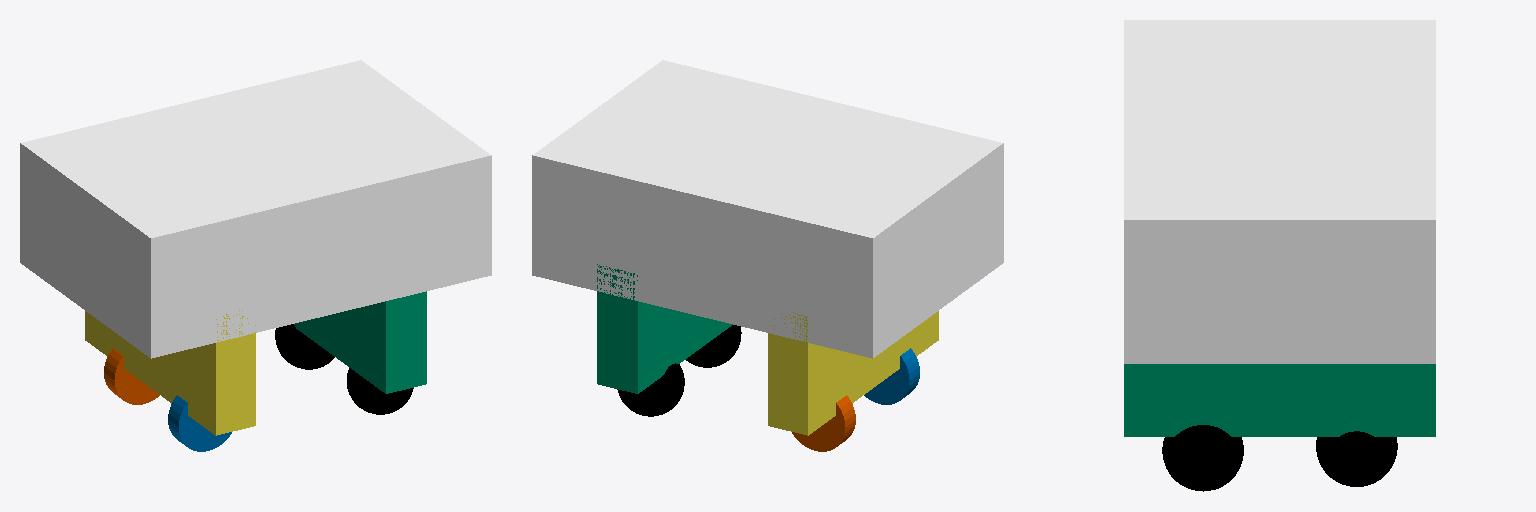
robot.urdf — differential_wheeled_robot:
<?xml version="1.0" ?>
<!-- =================================================================================== -->
<!-- |    This document was autogenerated by xacro from diff_wheeled_robot.xacro       | -->
<!-- |    EDITING THIS FILE BY HAND IS NOT RECOMMENDED                                 | -->
<!-- =================================================================================== -->
<robot name="differential_wheeled_robot" xmlns:xacro="http://www.ros.org/wiki/xacro">
  <!-- Wheels -->
  <!-- in kg-->
  <!-- Defining the colors used in this robot -->
  <material name="Black">
    <color rgba="0.0 0.0 0.0 1.0"/>
  </material>
  <material name="Red">
    <color rgba="0.8 0.0 0.0 1.0"/>
  </material>
  <material name="White">
    <color rgba="1.0 1.0 1.0 1.0"/>
  </material>
  <material name="Blue">
    <color rgba="0.0 0.0 0.8 1.0"/>
  </material>
  <!-- PROPERTY LIST -->
  <!--All units in m-kg-s-radians unit system -->
  <!-- Main body radius and height -->
  <!-- Main Body Cylinder base   -->
  <!-- in kg-->
  <!-- caster wheel radius and height -->
  <!-- caster wheel mass -->
  <!-- in kg-->
  <!-- caster wheel radius and height -->
  <!-- caster wheel mass -->
  <!-- in kg-->
  <!-- Wheels -->
   --&gt; 
  <!-- in kg-->
  <!-- Hokuyo Laser scanner -->
  <!-- Macro for calculating inertia of cylinder -->
  <!-- BASE-FOOTPRINT -->
  <!-- base_footprint is a fictitious link(frame) that is on the ground right below base_link origin -->
  <link name="base_footprint">
    <inertial>
      <mass value="0.0001"/>
      <origin xyz="0 0 0"/>
      <inertia ixx="0.0001" ixy="0.0" ixz="0.0" iyy="0.0001" iyz="0.0" izz="0.0001"/>
    </inertial>
    <visual>
      <origin rpy="0 0 0" xyz="0 0 0"/>
      <geometry>
        <box size="0.001 0.001 0.001"/>
      </geometry>
    </visual>
  </link>
  <gazebo reference="base_footprint">
    <turnGravityOff>false</turnGravityOff>
  </gazebo>
  <joint name="base_footprint_joint" type="fixed">
    <origin rpy="0 0 0" xyz="0 0 0.04"/>
    <parent link="base_footprint"/>
    <child link="base_link"/>
  </joint>
  <!-- BASE-LINK -->
  <!--Actual body/chassis of the robot-->
  <link name="base_link">
    <inertial>
      <mass value="50"/>
      <origin xyz="0 0 0"/>
      <!--The 3x3 rotational inertia matrix. -->
      <inertia ixx="0.0282916666667" ixy="0" ixz="0" iyy="0.0282916666667" iyz="0" izz="0.05625"/>
    </inertial>
    <visual>
      <origin rpy="0 0 0" xyz="0 0 0"/>
      <geometry>
         <box size=".92 .61 .31"/>
      </geometry>
      <material name="White"/>
    </visual>
    <collision>
      <origin rpy="0 0 0 " xyz="0 0 0"/>
      <geometry>
         <box size=".92 .61 .31"/>
      </geometry>
    </collision>
  </link>
  <gazebo reference="base_link">
    <material>Gazebo/White</material>
    <turnGravityOff>false</turnGravityOff>
  </gazebo>

  <link name="front_wheel_base">
    <visual>
      <geometry>
         <box size=".11 .61 .31"/>
      </geometry>
    </visual>
     <collision>
      <geometry>
        <box size=".11 .61 .31"/>
      </geometry>
    </collision>
    <inertial>
      <mass value="10"/>
      <inertia ixx="1.0" ixy="0.0" ixz="0.0" iyy="1.0" iyz="0.0" izz="1.0"/>
    </inertial>
  </link>
    <gazebo reference="front_wheel_base">
    <turnGravityOff>false</turnGravityOff>
  </gazebo>

  <joint name="front_wheel_base_to_base_link" type="fixed">
    <parent link="base_link"/>
    <child link="front_wheel_base"/>
    <origin xyz=".23 0 -.24" rpy="0 0 0"/>
  </joint>

  <link name="back_wheel_base">
    <visual>
      <geometry>
         <box size=".11 .61 .31"/>
      </geometry>
    </visual>
     <collision>
      <geometry>
        <box size=".11 .61 .31"/>
      </geometry>
    </collision>
    <inertial>
      <mass value="5"/>
      <inertia ixx="1.0" ixy="0.0" ixz="0.0" iyy="1.0" iyz="0.0" izz="1.0"/>
    </inertial>
  </link>
    <gazebo reference="back_wheel_base">
    <turnGravityOff>false</turnGravityOff>
  </gazebo>

  <joint name="back_wheel_base_to_base_link" type="fixed">
    <parent link="base_link"/>
    <child link="back_wheel_base"/>
    <origin xyz="-.23 0 -.24" rpy="0 0 0"/>
  </joint>

  

  <!--fb : front, back ; lr: left, right -->
  <link name="front_right_wheel">
    <visual>
      <origin rpy="1.57079632679 0  0 " xyz="0 0 0"/>
      <geometry>
         <cylinder length="0.05" radius="0.08"/>
      </geometry>
      <material name="DarkGray"/>
    </visual>
    <collision>
      <origin rpy="1.57079632679 0 0 " xyz="0 0 0"/>
      <geometry>
         <cylinder length="0.05" radius="0.08"/>
      </geometry>
    </collision>
    <inertial>
      <mass value="2.5"/>
      <origin xyz="0 0 0"/>
      <inertia ixx="0.00108333333333" ixy="0" ixz="0" iyy="0.00108333333333" iyz="0" izz="0.002"/>
    </inertial>
  </link>
  <gazebo reference="front_right_wheel">
    <mu1 value="1.0"/>
    <mu2 value="1.0"/>
    <kp value="10000000.0"/>
    <kd value="1.0"/>
    <fdir1 value="1 0 0"/>
    <material>Gazebo/Grey</material>
    <turnGravityOff>false</turnGravityOff>
  </gazebo>
  
 
  <joint name="front_right_wheel_joint" type="continuous">
    <parent link="back_wheel_base"/>
    <child link="front_right_wheel"/>
   <origin xyz="0 -.15 -.18" rpy="0 0 0"/>
    <axis rpy="0  0" xyz="0 1 0"/>
    <limit effort="100" velocity="100"/>
    <joint_properties damping="0.0" friction="0.0"/>
  </joint>
  <!-- Transmission is important to link the joints and the controller -->
  <transmission name="front_right_wheel_joint_trans">
    <type>transmission_interface/SimpleTransmission</type>
    <joint name="front_right_wheel_joint"/>
    <actuator name="front_right_wheel_joint_motor">
      <hardwareInterface>EffortJointInterface</hardwareInterface>
      <mechanicalReduction>1</mechanicalReduction>
    </actuator>
  </transmission>

  <!--fb : front, back ; lr: left, right -->
  <link name="front_left_wheel">
    <visual>
      <origin rpy="1.57079632679 0  0 " xyz="0 0 0"/>
      <geometry>
        <cylinder length="0.05" radius="0.08"/>
      </geometry>
      <material name="DarkGray"/>
    </visual>
    <collision>
      <origin rpy="1.57079632679 0 0 " xyz="0 0 0"/>
      <geometry>
        <cylinder length="0.05" radius="0.08"/>
      </geometry>
    </collision>
    <inertial>
      <mass value="2.5"/>
      <origin xyz="0 0 0"/>
      <inertia ixx="0.00108333333333" ixy="0" ixz="0" iyy="0.00108333333333" iyz="0" izz="0.002"/>
    </inertial>
  </link>
  <gazebo reference="front_left_wheel">
    <mu1 value="1.0"/>
    <mu2 value="1.0"/>
    <kp value="10000000.0"/>
    <kd value="1.0"/>
    <fdir1 value="1 0 0"/>
    <material>Gazebo/Grey</material>
    <turnGravityOff>false</turnGravityOff>
  </gazebo>
  <joint name="front_left_wheel_joint" type="continuous">
    <parent link="back_wheel_base"/>
    <child link="front_left_wheel"/>
     <origin xyz="0 .15 -.18" rpy="0 0 0"/>
    <axis rpy="0  0" xyz="0 1 0"/>
    <limit effort="100" velocity="100"/>
    <joint_properties damping="0.0" friction="0.0"/>
  </joint>
  <!-- Transmission is important to link the joints and the controller -->
  <transmission name="front_left_wheel_joint_trans">
    <type>transmission_interface/SimpleTransmission</type>
    <joint name="front_left_wheel_joint"/>
    <actuator name="front_left_wheel_joint_motor">
      <hardwareInterface>EffortJointInterface</hardwareInterface>
      <mechanicalReduction>1</mechanicalReduction>
    </actuator>
  </transmission>
  <!--Caster front  -->
  <link name="caster_front_link">
    <visual>
      <origin rpy="1.57079632679 0 0" xyz="0 0.02 0"/>
      <geometry>
        <sphere radius="0.08"/> 
      </geometry>
      <material name="Black"/>
    </visual>
    <collision>
      <geometry>
        <sphere radius="0.08"/>
      </geometry>
      <origin rpy="1.57079632679 0 0" xyz="0 0.02 0"/>
    </collision>
    <inertial>
      <mass value="0.5"/>
      <origin xyz="0 0 0"/>
      <inertia ixx="0.001" ixy="0.0" ixz="0.0" iyy="0.001" iyz="0.0" izz="0.001"/>
    </inertial>
  </link>
  <joint name="caster_front_joint" type="fixed">
    <parent link="front_wheel_base"/>
    <child link="caster_front_link"/>
    <origin xyz="0 .15 -.18" rpy="-1.57079632679 0 0"/>
  </joint>
  <gazebo reference="caster_front_link">
    <turnGravityOff>false</turnGravityOff>
  </gazebo>
  <!--Caster back  -->
  <link name="caster_back_link">
    <visual>
      <origin rpy="1.57079632679 0 0" xyz="0.02 0.02 0 "/>
      <geometry>
        <sphere radius="0.08"/>
      </geometry>
      <material name="Black"/>
    </visual>
    <collision>
      <geometry>
        <sphere radius="0.08"/>
      </geometry>
      <origin rpy="1.57079632679 0 0" xyz="0 0.02 0 "/>
    </collision>
    <inertial>
      <mass value="0.5"/>
      <origin xyz="0 0 0"/>
      <inertia ixx="0.001" ixy="0.0" ixz="0.0" iyy="0.001" iyz="0.0" izz="0.001"/>
    </inertial>
  </link>
  <joint name="caster_back_joint" type="fixed">
    <parent link="front_wheel_base"/>
    <child link="caster_back_link"/>
    <origin rpy="-1.57079632679 0 0" xyz="0 -.15 -.18"/>
  </joint>
  <gazebo reference="caster_back_link">
    <turnGravityOff>false</turnGravityOff>
  </gazebo>
  <!-- SENSORS -->
  <!-- hokuyo -->
  <link name="hokuyo_link">
    <visual>
      <origin rpy="0 0 0" xyz="0 0 0"/>
      <geometry>
        <box size="0.05 0.05 0.05"/>
      </geometry>
      <material name="Blue"/>
    </visual>
  </link>
  <joint name="hokuyo_joint" type="fixed">
    <origin rpy="0 0 0" xyz="0.125 0 0.0325"/>
    <parent link="base_link"/>
    <child link="hokuyo_link"/>
  </joint>
  <gazebo reference="hokuyo_link">
    <material>Gazebo/Blue</material>
    <turnGravityOff>false</turnGravityOff>
    <sensor name="head_hokuyo_sensor" type="ray">
      <pose>0.025 0 0 0 0 0</pose>
      <visualize>false</visualize>
      <update_rate>40</update_rate>
      <ray>
        <scan>
          <horizontal>
            <samples>720</samples>
            <resolution>1</resolution>
            <min_angle>-1.570796</min_angle>
            <max_angle>1.570796</max_angle>
          </horizontal>
        </scan>
        <range>
          <min>0.10</min>
          <max>10.0</max>
          <resolution>0.001</resolution>
        </range>
      </ray>
      <plugin filename="libgazebo_ros_laser.so" name="gazebo_ros_head_hokuyo_controller">
        <topicName>/scan</topicName>
        <frameName>hokuyo_link</frameName>
      </plugin>
    </sensor>
  </gazebo>
  <!-- Differential drive controller  -->
  <gazebo>
    <plugin filename="libgazebo_ros_diff_drive.so" name="differential_drive_controller_front">
      <rosDebugLevel>Debug</rosDebugLevel>
      <publishWheelTF>True</publishWheelTF>
      <publishTf>1</publishTf>
      <publishWheelJointState>true</publishWheelJointState>
      <alwaysOn>true</alwaysOn>
      <updateRate>100.0</updateRate>
      <leftJoint>front_left_wheel_joint</leftJoint>
      <rightJoint>front_right_wheel_joint</rightJoint>
      <wheelSeparation>0.3</wheelSeparation>
      <wheelDiameter>0.08</wheelDiameter>
      <broadcastTF>1</broadcastTF>
      <wheelTorque>30</wheelTorque>
      <wheelAcceleration>1.8</wheelAcceleration>
      <commandTopic>cmd_vel</commandTopic>
      <odometryFrame>odom</odometryFrame>
      <odometryTopic>odom</odometryTopic>
      <robotBaseFrame>base_link</robotBaseFrame>
    </plugin>
  </gazebo>
  <!--
	  <gazebo>
	    <plugin name="kobuki_controller" filename="libgazebo_ros_kobuki.so">
	      <publish_tf>1</publish_tf>
	      <left_wheel_joint_name>front_left_wheel_joint</left_wheel_joint_name>
	      <right_wheel_joint_name>front_right_wheel_joint</right_wheel_joint_name>
	      <wheel_separation>.30</wheel_separation>
	      <wheel_diameter>0.08</wheel_diameter>
	      <torque>30.0</torque>
	      <velocity_command_timeout>0.6</velocity_command_timeout>


	    </plugin>
	  </gazebo>

-->
  <!--
<gazebo>
    <plugin name="gazebo_ros_control" filename="libgazebo_ros_control.so" />
    <plugin filename="libgazebo_ros_joint_state_publisher.so" name="joint_state_publisher">
      <jointName>front_right_wheel_joint, front_left_wheel_joint</jointName>
      <updateRate>10.0</updateRate>
      <alwaysOn>true</alwaysOn>
    </plugin>
</gazebo>
-->
</robot>

--- Render facts (derived) ---
The picture shows the robot from 3 angles, left to right: view 1: azimuth 30°, elevation 25°; view 2: azimuth 150°, elevation 25°; view 3: azimuth 270°, elevation 25°; orthographic projection.
Robot: differential_wheeled_robot — 9 links, 8 joints (2 continuous, 6 fixed); root link base_footprint; default pose: all joints at 0.
Visible links, largest first — view 1: base_link, back_wheel_base, front_wheel_base, caster_front_link, front_right_wheel, caster_back_link, front_left_wheel; view 2: base_link, back_wheel_base, front_wheel_base, caster_front_link, front_left_wheel, front_right_wheel, caster_back_link; view 3: base_link, front_wheel_base, caster_back_link, caster_front_link.
Link boxes in pixels (box(x1,y1,x2,y2)): base_link: box(20, 60, 491, 358); back_wheel_base: box(85, 310, 255, 435); front_wheel_base: box(294, 291, 426, 393); caster_front_link: box(275, 324, 334, 369); front_right_wheel: box(168, 395, 231, 451); caster_back_link: box(347, 368, 413, 414); front_left_wheel: box(104, 348, 159, 404); base_link: box(532, 60, 1003, 358); back_wheel_base: box(768, 311, 938, 435); front_wheel_base: box(597, 264, 732, 393); caster_front_link: box(617, 363, 684, 416); front_left_wheel: box(792, 395, 855, 451); front_right_wheel: box(864, 348, 919, 404); caster_back_link: box(686, 325, 741, 367); base_link: box(1124, 20, 1435, 363); front_wheel_base: box(1124, 364, 1435, 436); caster_back_link: box(1162, 425, 1243, 491); caster_front_link: box(1316, 431, 1397, 486).
Size in the robot's own frame: 0.92 by 0.61 by 0.675 metres.
Geometry: primitives only (box / cylinder / sphere), no mesh files.
